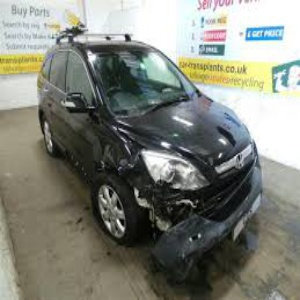bumper: (142, 197, 227, 285)
